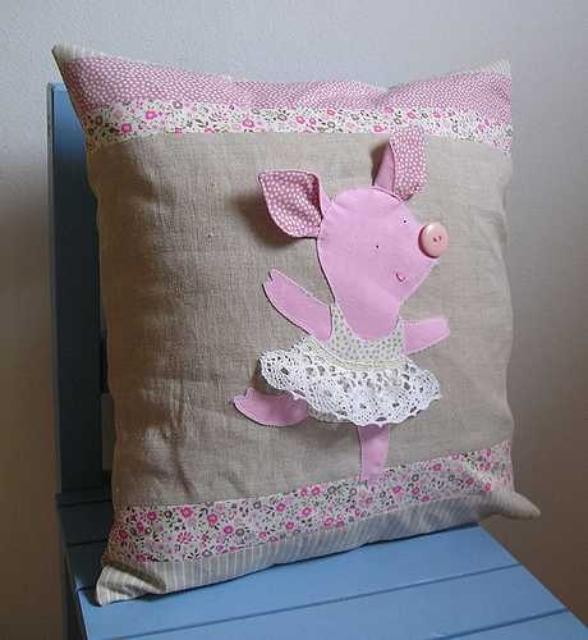pillow: (47, 42, 541, 606)
